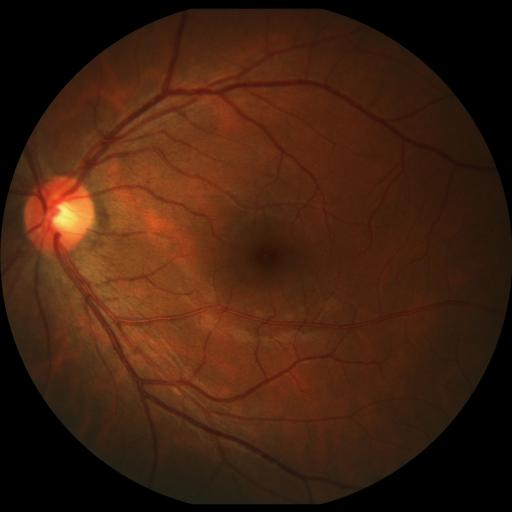Optic Cup: (48, 202, 78, 230)
Optic Disc: (25, 176, 96, 252)
